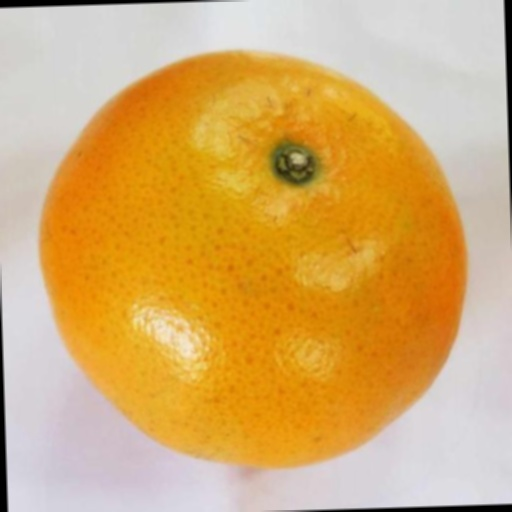fruit: (8, 103, 75, 430)
